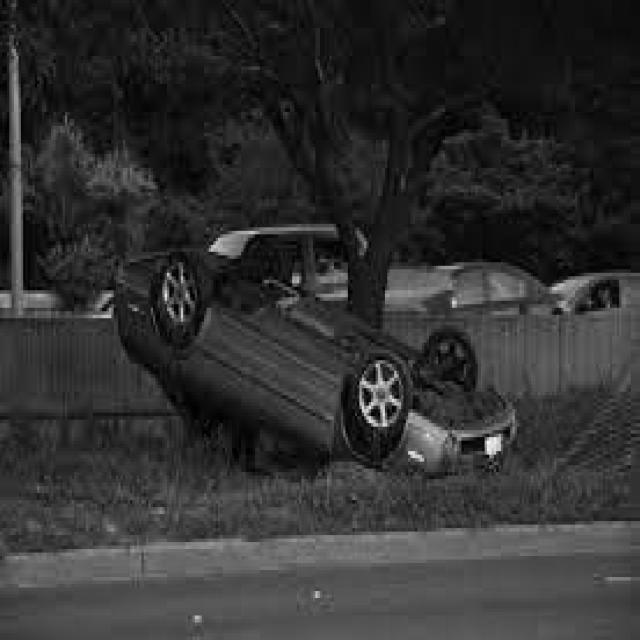accident: (112, 239, 520, 481)
vehicle: (211, 220, 369, 297), (391, 255, 569, 316), (553, 270, 640, 318)
